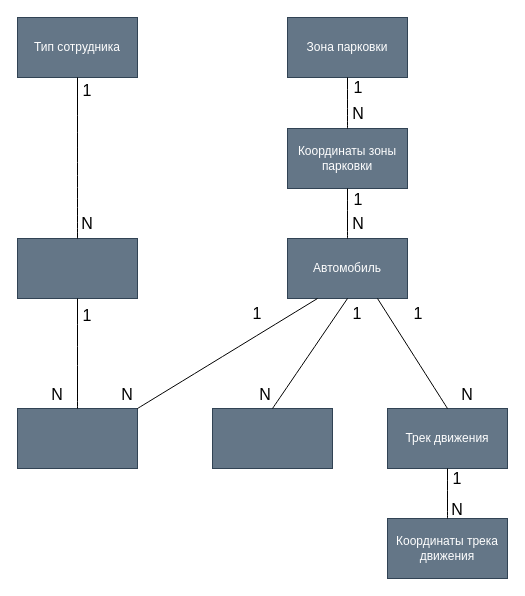
This 525x596 diagram has some shape labels left out. Here are the shapes that lost their labels. From the top down, the centre of each, then its label:
At (x=77, y=268): "Сотрудник".
At (x=77, y=438): "Тревожное событие".
At (x=272, y=438): "Обращение к геомониторингу".
